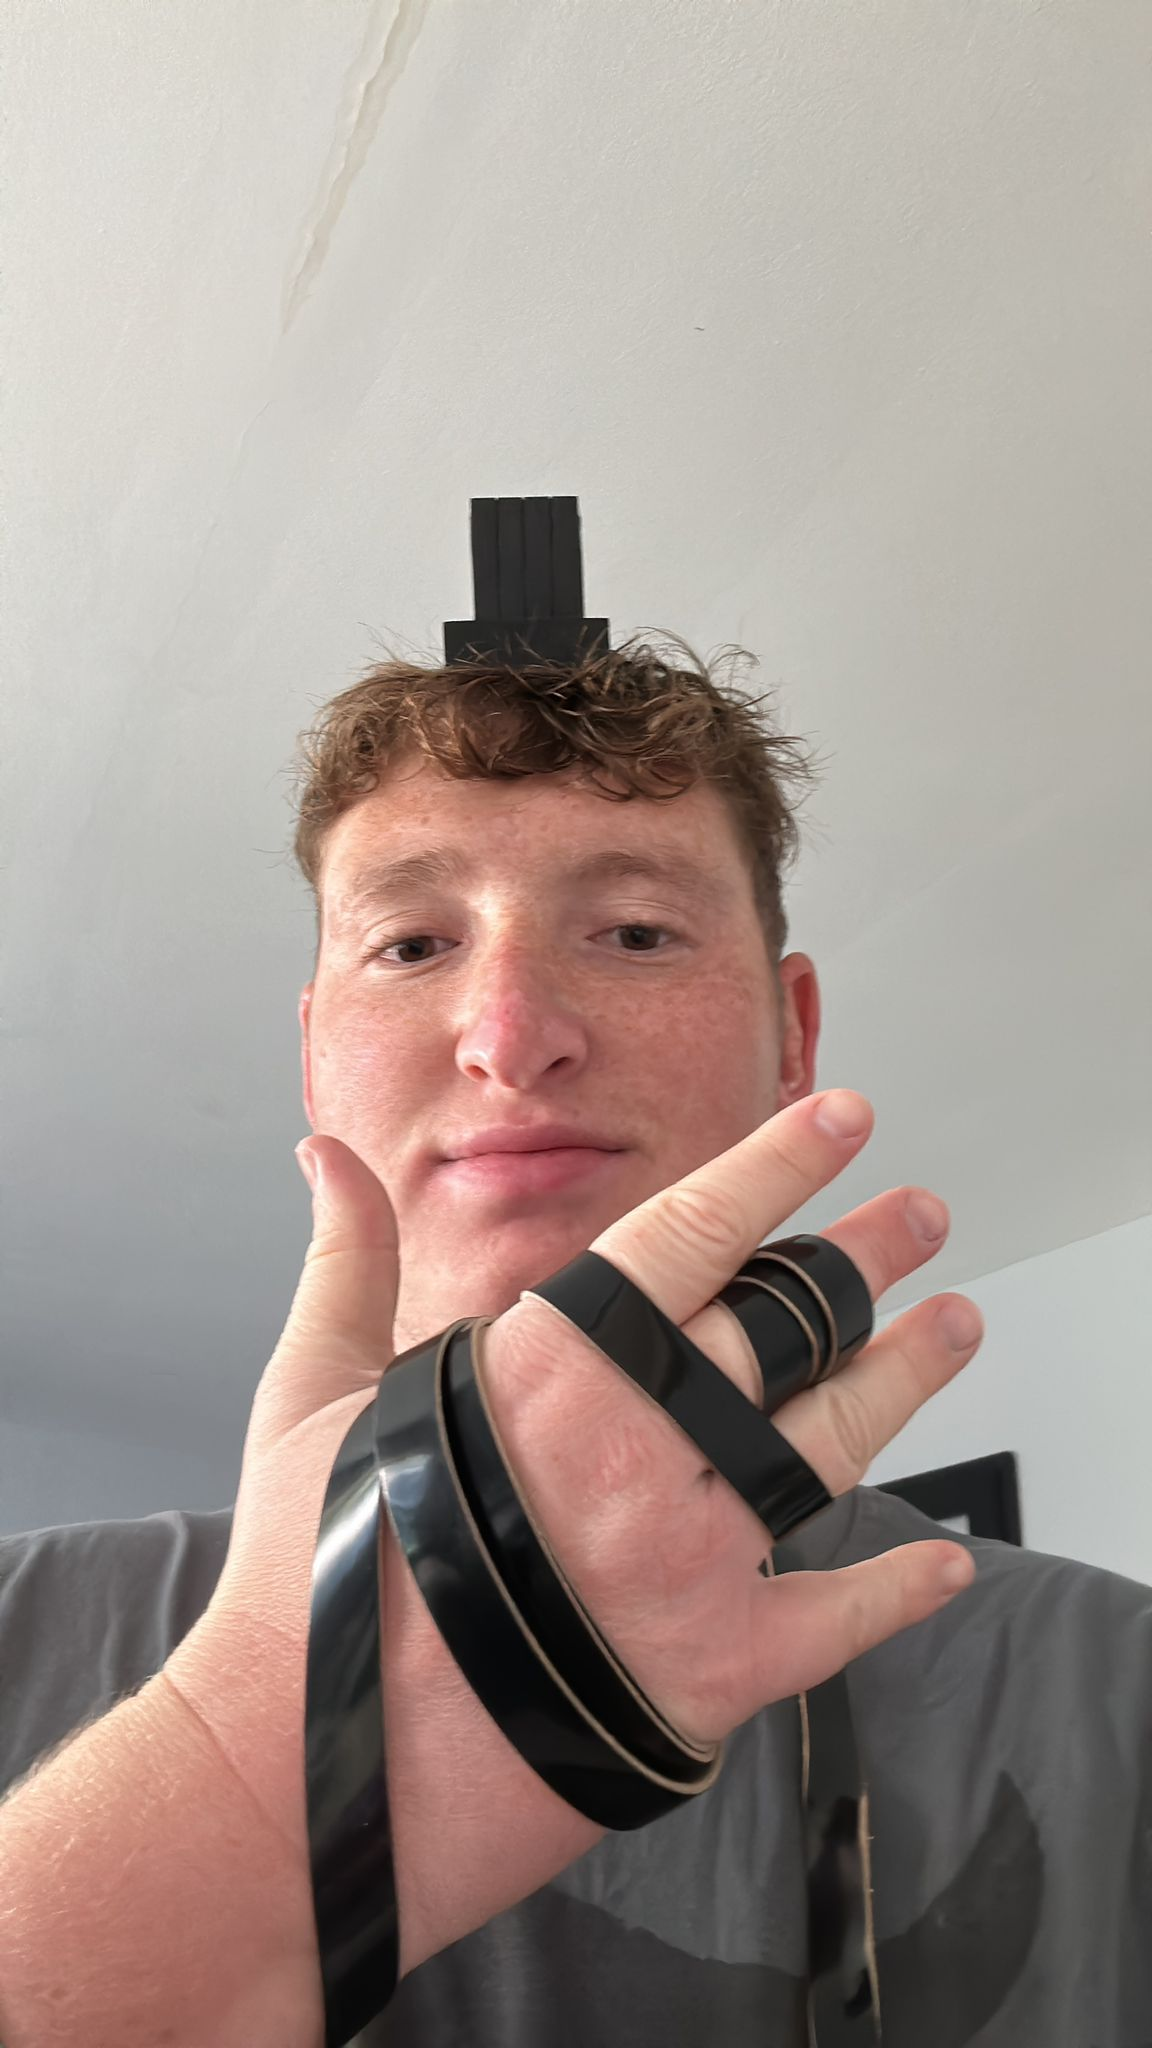tefillin: (444, 494, 610, 678)
